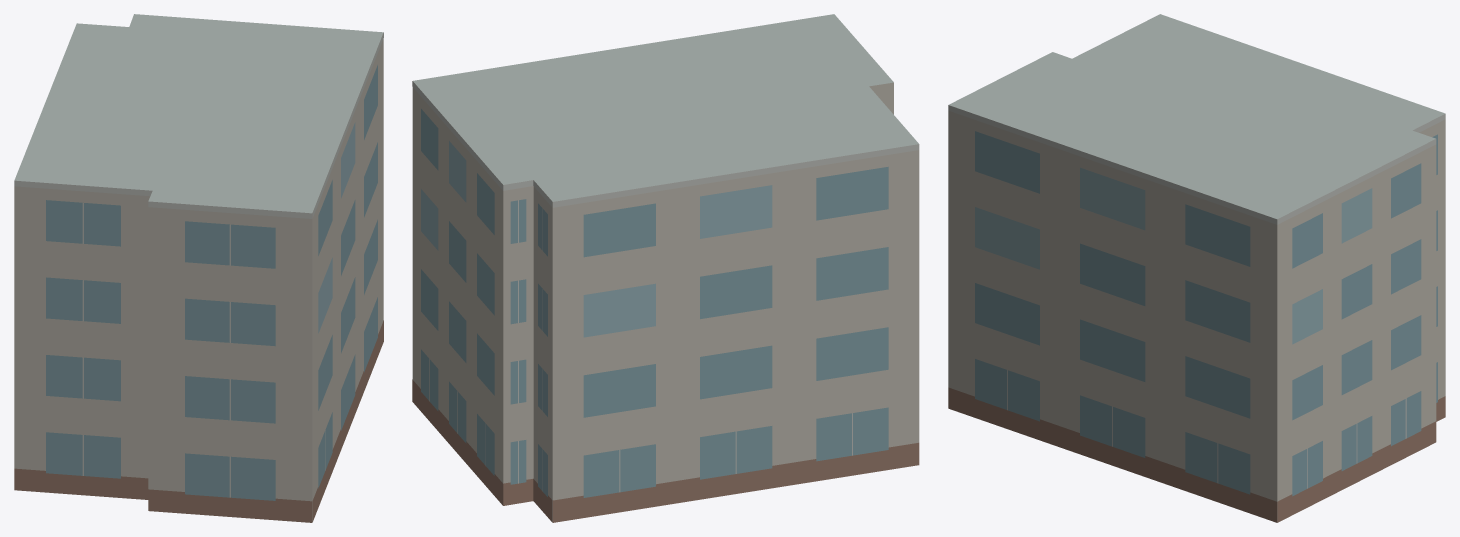
The model's file is survey-upis-32824386.glb.
3 views of the same model, side by side, from view 1: azimuth 30°, elevation 25°; view 2: azimuth 150°, elevation 25°; view 3: azimuth 270°, elevation 25° (orthographic). The views are drawn at different scales.
Visible parts, largest first — view 1: survey-upis-32824386.tmp; view 2: survey-upis-32824386.tmp; view 3: survey-upis-32824386.tmp.
Part boxes in pixels (x1,y1,x2,y2): survey-upis-32824386.tmp: (14,14,383,522); survey-upis-32824386.tmp: (412,14,919,522); survey-upis-32824386.tmp: (948,14,1445,522).
Size of the model in its own units: 19.18 by 13.22 by 19.64.
